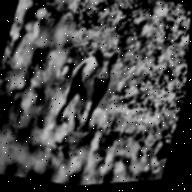boar: (42, 43, 133, 146)
